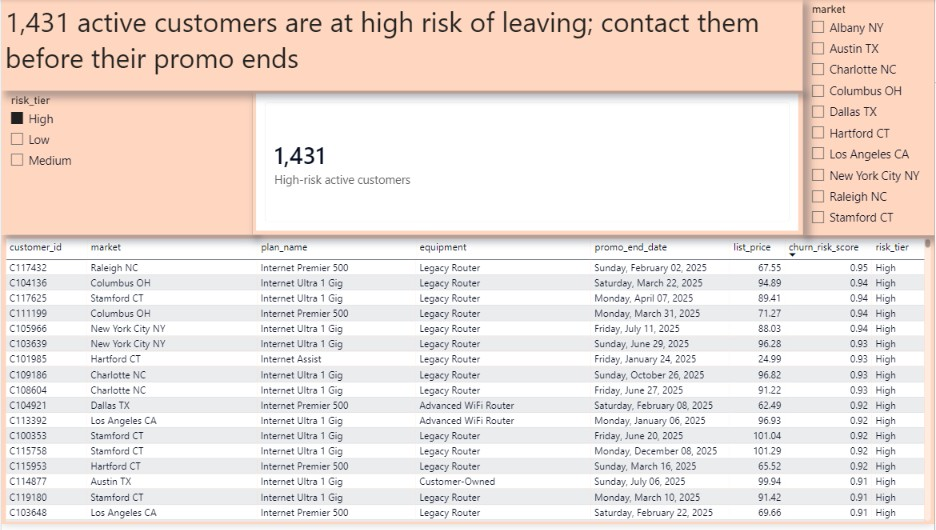

This screenshot's page, from the dashboard's own definition file:
{"tool":"powerbi","page":{"name":"At-Risk Customers","canvas":[1280,720],"ordinal":2},"visuals":[{"type":"tableEx","fields":{"Values":["churn_scores.customer_id","churn_scores.market","churn_scores.plan_name","churn_scores.equipment","churn_scores.promo_end_date","churn_scores.list_price","churn_scores.churn_risk_score","churn_scores.risk_tier"]},"box":[0,324,1280.3,396.8],"z":0},{"type":"slicer","fields":{"Values":["churn_scores.risk_tier"]},"box":[0,125.6,344.1,198.4],"z":1000},{"type":"slicer","fields":{"Values":["churn_scores.market"]},"box":[1099,0,181.4,324],"z":2000},{"type":"cardVisual","fields":{"Data":["customers_clean.High-Risk Display"]},"box":[344.1,125.6,754.9,198.4],"z":2001},{"type":"textbox","box":[0,0,1099,125.6],"z":2002}]}

Visuals, with their boxes in screenshot pixels (x1, y1, x2, y2), scaled from the page's 1280x720 canvas onto the 936x530 screenshot:
tableEx - churn_scores.customer_id x churn_scores.market: locate(0, 239, 935, 529)
slicer - churn_scores.risk_tier: locate(0, 92, 252, 239)
slicer - churn_scores.market: locate(804, 0, 935, 239)
cardVisual - customers_clean.High-Risk Display: locate(252, 92, 804, 239)
textbox: locate(0, 0, 804, 92)
